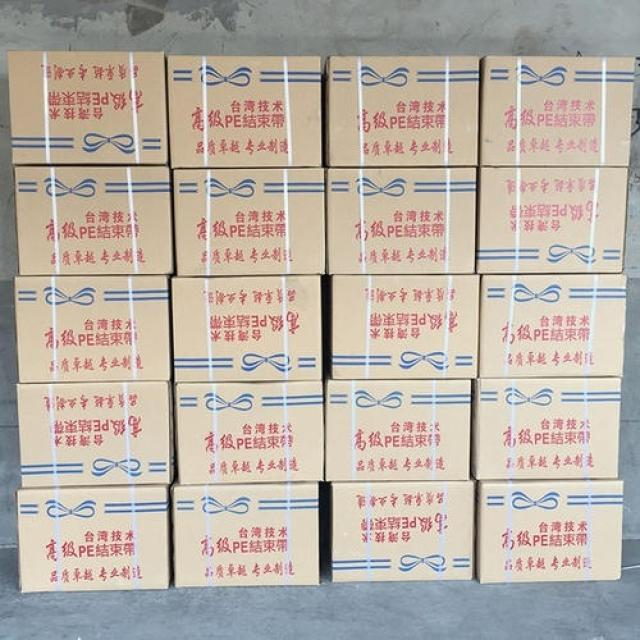box: (5, 52, 169, 166), (322, 362, 472, 482), (13, 165, 174, 276), (164, 56, 323, 168), (322, 56, 479, 168), (14, 274, 174, 383), (478, 56, 635, 167), (17, 381, 178, 489), (321, 273, 482, 380), (17, 485, 174, 594), (168, 167, 327, 274), (319, 475, 478, 582), (324, 166, 478, 276), (475, 166, 629, 274), (171, 477, 320, 587), (171, 274, 322, 382), (470, 377, 622, 482), (475, 479, 623, 585), (478, 274, 627, 379), (175, 381, 324, 483)
